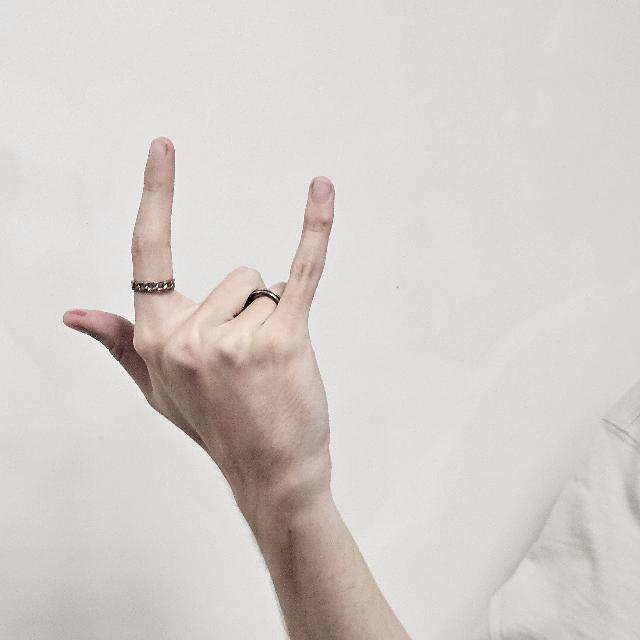Cima: (62, 133, 336, 547)
